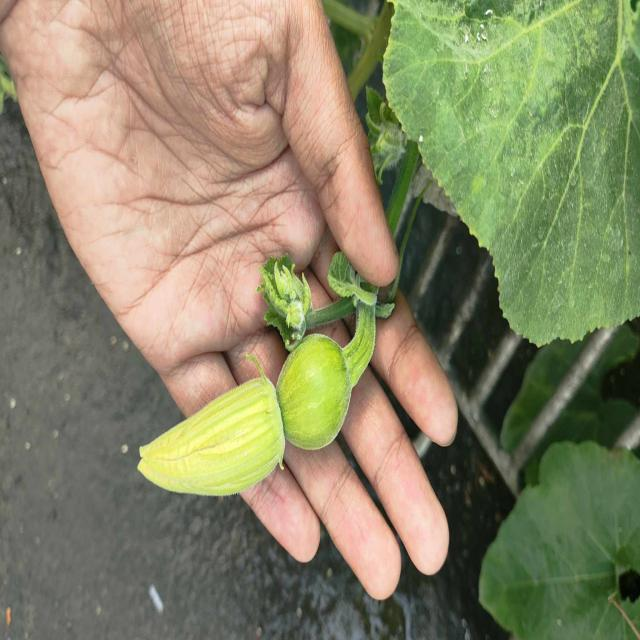flower: (133, 359, 292, 505)
squash: (260, 319, 366, 479)
